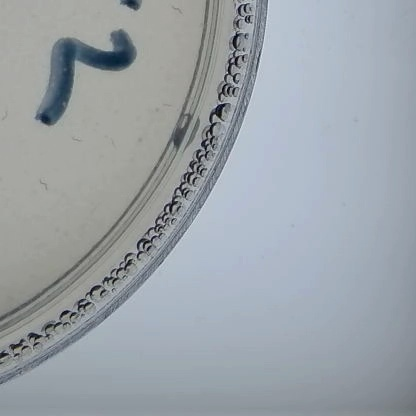worm: (150, 100, 178, 119), (165, 4, 184, 19), (65, 136, 85, 148), (0, 106, 14, 122), (35, 178, 50, 192), (104, 139, 120, 152)
